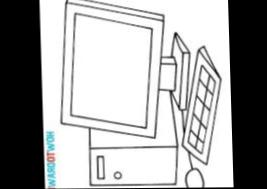keyboard: (182, 47, 220, 163)
monitor: (61, 0, 188, 139)
mouse: (184, 165, 209, 188)
pc: (89, 91, 176, 185)
